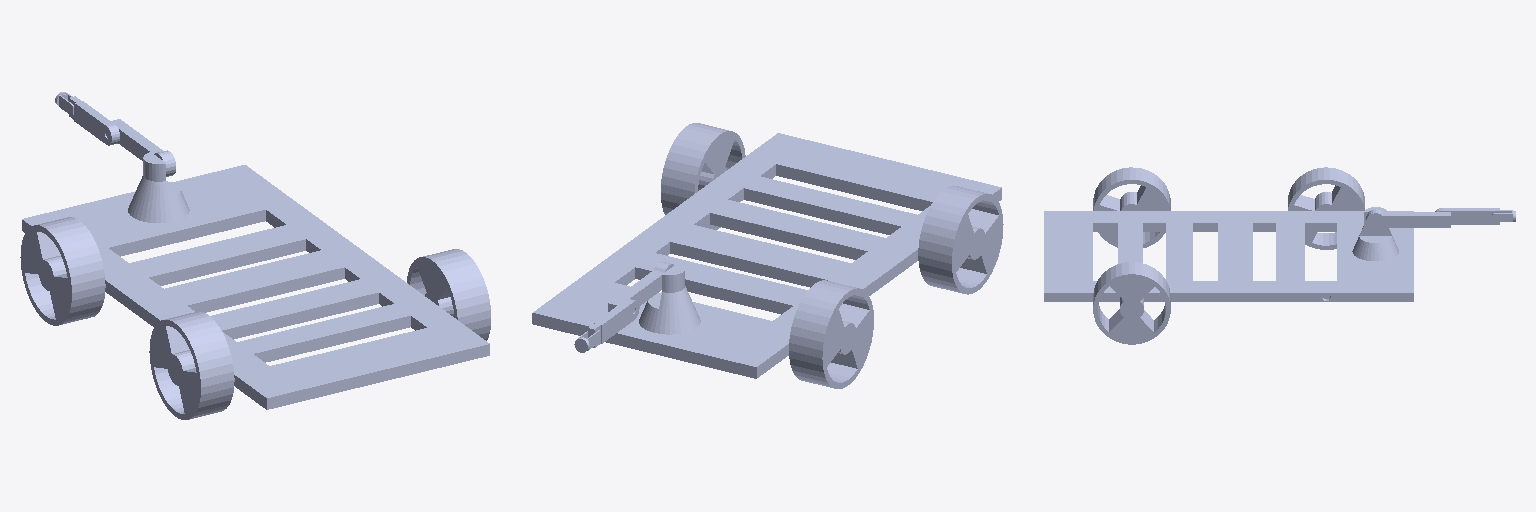
The robot description file, URDF, robot "main_assem":
<?xml version="1.0" encoding="utf-8"?>
<!-- This URDF was automatically created by SolidWorks to URDF Exporter! Originally created by [author] ([email redacted]) 
     Commit Version: 1.5.1-0-g916b5db  Build Version: 1.5.7152.31018
     For more information, please see http://wiki.ros.org/sw_urdf_exporter -->
<robot
  name="main_assem">
  <link
    name="dummy_link">
  </link>
  <joint
    name="dummy_joint"
    type="fixed">
    <parent
      link="dummy_link" />
    <child
      link="base_link" />
  </joint>
  <link
    name="base_link">
    <inertial>
      <origin
        xyz="-0.00170203638116475 0.0127346850239872 -0.0118041005648726"
        rpy="0 0 0" />
      <mass
        value="9.42503016099692" />
      <inertia
        ixx="0.832740314338072"
        ixy="-5.56408283328623E-07"
        ixz="0.000753920974796364"
        iyy="1.0663237405973"
        iyz="0.000121345959122724"
        izz="0.234614332511758" />
    </inertial>
    <visual>
      <origin
        xyz="0 0 0"
        rpy="0 0 0" />
      <geometry>
        <mesh
          filename="package://main_assem/meshes/base_link.STL" />
      </geometry>
      <material
        name="">
        <color
          rgba="0.792156862745098 0.819607843137255 0.933333333333333 1" />
      </material>
    </visual>
    <collision>
      <origin
        xyz="0 0 0"
        rpy="0 0 0" />
      <geometry>
        <mesh
          filename="package://main_assem/meshes/base_link.STL" />
      </geometry>
    </collision>
  </link>
  <link
    name="armbase">
    <inertial>
      <origin
        xyz="-0.00324897350997218 0.0353952360185757 0"
        rpy="0 0 0" />
      <mass
        value="0.506213101500391" />
      <inertia
        ixx="0.000753878291869249"
        ixy="5.72149221092461E-05"
        ixz="-6.69003782118071E-21"
        iyy="0.000614625369596842"
        iyz="2.84387244597079E-19"
        izz="0.000750783643468825" />
    </inertial>
    <visual>
      <origin
        xyz="0 0 0"
        rpy="0 0 0" />
      <geometry>
        <mesh
          filename="package://main_assem/meshes/armbase.STL" />
      </geometry>
      <material
        name="">
        <color
          rgba="0.792156862745098 0.819607843137255 0.933333333333333 1" />
      </material>
    </visual>
    <collision>
      <origin
        xyz="0 0 0"
        rpy="0 0 0" />
      <geometry>
        <mesh
          filename="package://main_assem/meshes/armbase.STL" />
      </geometry>
    </collision>
  </link>
  <joint
    name="armbase_j"
    type="revolute">
    <origin
      xyz="0 0.383 0.0254"
      rpy="1.5708 0 0" />
    <parent
      link="base_link" />
    <child
      link="armbase" />
    <axis
      xyz="0 1 0" />
    <limit
      lower="-3.14"
      upper="3.14"
      effort="1"
      velocity="0.1" />
  </joint>
  <link
    name="arm1">
    <inertial>
      <origin
        xyz="0.0879541937393116 0 -0.0124617330788163"
        rpy="0 0 0" />
      <mass
        value="0.183935653559041" />
      <inertia
        ixx="3.12142420880735E-01"
        ixy="-3.14163621815198E-21"
        ixz="-3.6809232997478E-06"
        iyy="2.000765129111322245"
        iyz="1.950052768551E-21"
        izz="2.000774879373112612" />
    </inertial>
    <visual>
      <origin
        xyz="0 0 0"
        rpy="0 0 0" />
      <geometry>
        <mesh
          filename="package://main_assem/meshes/arm1.STL" />
      </geometry>
      <material
        name="">
        <color
          rgba="0.792156862745098 0.819607843137255 0.933333333333333 1" />
      </material>
    </visual>
    <collision>
      <origin
        xyz="0 0 0"
        rpy="0 0 0" />
      <geometry>
        <mesh
          filename="package://main_assem/meshes/arm1.STL" />
      </geometry>
    </collision>
  </link>
  <joint
    name="arm1_j"
    type="revolute">
    <origin
      xyz="0 0.097 0"
      rpy="0 1.5708 3.1416" />
    <parent
      link="armbase" />
    <child
      link="arm1" />
    <axis
      xyz="0 0 1" />
    <limit
      lower="-3.14"
      upper="3.14"
      effort="1"
      velocity="0.1" />
  </joint>
  <link
    name="arm2">
    <inertial>
      <origin
        xyz="-0.00950340675731335 -1.38777878078145E-17 -0.0666337524314881"
        rpy="0 0 0" />
      <mass
        value="0.123007120370338" />
      <inertia
        ixx="3.000288970056409319"
        ixy="-1.50923505767771E-22"
        ixz="1.94072911636947E-07"
        iyy="3.000275729143825337"
        iyz="5.6623532321321E-21"
        izz="1.030231093816" />
    </inertial>
    <visual>
      <origin
        xyz="0 0 0"
        rpy="0 0 0" />
      <geometry>
        <mesh
          filename="package://main_assem/meshes/arm2.STL" />
      </geometry>
      <material
        name="">
        <color
          rgba="0.792156862745098 0.819607843137255 0.933333333333333 1" />
      </material>
    </visual>
    <collision>
      <origin
        xyz="0 0 0"
        rpy="0 0 0" />
      <geometry>
        <mesh
          filename="package://main_assem/meshes/arm2.STL" />
      </geometry>
    </collision>
  </link>
  <joint
    name="arm2_j"
    type="revolute">
    <origin
      xyz="0.17194 0 0"
      rpy="0 1.5708 -3.1416" />
    <parent
      link="arm1" />
    <child
      link="arm2" />
    <axis
      xyz="1 0 0" />
    <limit
      lower="-3.14"
      upper="3.14"
      effort="1"
      velocity="0.1" />
  </joint>
  <link
    name="arm3">
    <inertial>
      <origin
        xyz="2.77555756156289E-17 0.0100325428121109 0.0230765135930778"
        rpy="0 0 0" />
      <mass
        value="0.00876236613981444" />
      <inertia
        ixx="2.85847864738436E-02"
        ixy="3.57315758507871E-22"
        ixz="2.65331948404002E-22"
        iyy="2.73486379920807E-02"
        iyz="7.69476065540878E-08"
        izz="1.07567110867272E-02" />
    </inertial>
    <visual>
      <origin
        xyz="0 0 0"
        rpy="0 0 0" />
      <geometry>
        <mesh
          filename="package://main_assem/meshes/arm3.STL" />
      </geometry>
      <material
        name="">
        <color
          rgba="0.792156862745098 0.819607843137255 0.933333333333333 1" />
      </material>
    </visual>
    <collision>
      <origin
        xyz="0 0 0"
        rpy="0 0 0" />
      <geometry>
        <mesh
          filename="package://main_assem/meshes/arm3.STL" />
      </geometry>
    </collision>
  </link>
  <joint
    name="arm3_j"
    type="revolute">
    <origin
      xyz="0 0 -0.1397"
      rpy="3.1416 0 -1.5708" />
    <parent
      link="arm2" />
    <child
      link="arm3" />
    <axis
      xyz="0 1 0" />
    <limit
      lower="-3.14"
      upper="3.14"
      effort="1"
      velocity="0.1" />
  </joint>
  <link
    name="end_eff">
    <inertial>
      <origin
        xyz="-5.20417042793042E-18 -0.00382504739336498 0"
        rpy="0 0 0" />
      <mass
        value="0.00543129612695023" />
      <inertia
        ixx="3.4904804132836E-07"
        ixy="3.16484926145413E-22"
        ixz="1.25133954774564E-38"
        iyy="6.45260935473564E-07"
        iyz="1.22213314069655E-23"
        izz="3.4904804132836E-07" />
    </inertial>
    <visual>
      <origin
        xyz="0 0 0"
        rpy="0 0 0" />
      <geometry>
        <mesh
          filename="package://main_assem/meshes/end_eff.STL" />
      </geometry>
      <material
        name="">
        <color
          rgba="0.792156862745098 0.819607843137255 0.933333333333333 1" />
      </material>
    </visual>
    <collision>
      <origin
        xyz="0 0 0"
        rpy="0 0 0" />
      <geometry>
        <mesh
          filename="package://main_assem/meshes/end_eff.STL" />
      </geometry>
    </collision>
  </link>
  <joint
    name="end_eff_j"
    type="revolute">
    <origin
      xyz="0 0.009652 0.045692"
      rpy="-1.5708 0 -1.5708" />
    <parent
      link="arm3" />
    <child
      link="end_eff" />
    <axis
      xyz="0 1 0" />
    <limit
      lower="-3.14"
      upper="3.14"
      effort="1"
      velocity="0.1" />
  </joint>
  <link
    name="front_l">
    <inertial>
      <origin
        xyz="0.0630909519637447 0 -1.38777878078145E-17"
        rpy="0 0 0" />
      <mass
        value="1.59838145273687" />
      <inertia
        ixx="0.00880922264288547"
        ixy="1.40090991093141E-19"
        ixz="-6.23156060309379E-19"
        iyy="0.0040430414902767"
        iyz="3.16915422768023E-05"
        izz="0.00636782025562654" />
    </inertial>
    <visual>
      <origin
        xyz="0 0 0"
        rpy="0 0 0" />
      <geometry>
        <mesh
          filename="package://main_assem/meshes/front_l.STL" />
      </geometry>
      <material
        name="">
        <color
          rgba="0.792156862745098 0.819607843137255 0.933333333333333 1" />
      </material>
    </visual>
    <collision>
      <origin
        xyz="0 0 0"
        rpy="0 0 0" />
      <geometry>
        <mesh
          filename="package://main_assem/meshes/front_l.STL" />
      </geometry>
    </collision>
  </link>
  <joint
    name="front_l_j"
    type="revolute">
    <origin
      xyz="-0.2286 0.254 0.0127"
      rpy="-0.3918 0 -3.1416" />
    <parent
      link="base_link" />
    <child
      link="front_l" />
    <axis
      xyz="1 0 0" />
    <limit
      lower="-3.14"
      upper="3.14"
      effort="1"
      velocity="10" />
  </joint>
  <link
    name="front_r">
    <inertial>
      <origin
        xyz="0.0630909519637447 0 -5.55111512312578E-17"
        rpy="0 0 0" />
      <mass
        value="1.59838145273687" />
      <inertia
        ixx="0.00880922264288546"
        ixy="6.81917958332264E-20"
        ixz="4.04733976487528E-19"
        iyy="0.0040430414902767"
        iyz="3.16915422768036E-05"
        izz="0.00636782025562653" />
    </inertial>
    <visual>
      <origin
        xyz="0 0 0"
        rpy="0 0 0" />
      <geometry>
        <mesh
          filename="package://main_assem/meshes/front_r.STL" />
      </geometry>
      <material
        name="">
        <color
          rgba="0.792156862745098 0.819607843137255 0.933333333333333 1" />
      </material>
    </visual>
    <collision>
      <origin
        xyz="0 0 0"
        rpy="0 0 0" />
      <geometry>
        <mesh
          filename="package://main_assem/meshes/front_r.STL" />
      </geometry>
    </collision>
  </link>
  <joint
    name="front_r_j"
    type="revolute">
    <origin
      xyz="0.2286 0.254 0.0127"
      rpy="1.5708 0 0" />
    <parent
      link="base_link" />
    <child
      link="front_r" />
    <axis
      xyz="1 0 0" />
    <limit
      lower="-3.14"
      upper="3.14"
      effort="1"
      velocity="10" />
  </joint>
  <link
    name="back_l">
    <inertial>
      <origin
        xyz="0.0630909519637446 2.77555756156289E-17 -1.38777878078145E-17"
        rpy="0 0 0" />
      <mass
        value="1.59838145273687" />
      <inertia
        ixx="0.00880922264288547"
        ixy="9.73907783546181E-20"
        ixz="-1.99184542323934E-19"
        iyy="0.0040430414902767"
        iyz="3.16915422768004E-05"
        izz="0.00636782025562654" />
    </inertial>
    <visual>
      <origin
        xyz="0 0 0"
        rpy="0 0 0" />
      <geometry>
        <mesh
          filename="package://main_assem/meshes/back_l.STL" />
      </geometry>
      <material
        name="">
        <color
          rgba="0.792156862745098 0.819607843137255 0.933333333333333 1" />
      </material>
    </visual>
    <collision>
      <origin
        xyz="0 0 0"
        rpy="0 0 0" />
      <geometry>
        <mesh
          filename="package://main_assem/meshes/back_l.STL" />
      </geometry>
    </collision>
  </link>
  <joint
    name="back_l_j"
    type="revolute">
    <origin
      xyz="-0.2286 -0.254 0.0127"
      rpy="-0.3918 0 -3.1416" />
    <parent
      link="base_link" />
    <child
      link="back_l" />
    <axis
      xyz="1 0 0" />
    <limit
      lower="-3.14"
      upper="3.14"
      effort="1"
      velocity="10" />
  </joint>
  <link
    name="back_r">
    <inertial>
      <origin
        xyz="0.0630909519637446 3.46944695195361E-18 5.55111512312578E-17"
        rpy="0 0 0" />
      <mass
        value="1.59838145273687" />
      <inertia
        ixx="0.00880922264288546"
        ixy="2.0319209393765E-19"
        ixz="3.64561037791785E-19"
        iyy="0.0040430414902767"
        iyz="3.16915422768035E-05"
        izz="0.00636782025562653" />
    </inertial>
    <visual>
      <origin
        xyz="0 0 0"
        rpy="0 0 0" />
      <geometry>
        <mesh
          filename="package://main_assem/meshes/back_r.STL" />
      </geometry>
      <material
        name="">
        <color
          rgba="0.792156862745098 0.819607843137255 0.933333333333333 1" />
      </material>
    </visual>
    <collision>
      <origin
        xyz="0 0 0"
        rpy="0 0 0" />
      <geometry>
        <mesh
          filename="package://main_assem/meshes/back_r.STL" />
      </geometry>
    </collision>
  </link>
  <joint
    name="back_r_j"
    type="revolute">
    <origin
      xyz="0.2286 -0.254 0.0127"
      rpy="1.5708 0 0" />
    <parent
      link="base_link" />
    <child
      link="back_r" />
    <axis
      xyz="1 0 0" />
    <limit
      lower="-3.14"
      upper="3.14"
      effort="1"
      velocity="10" />
  </joint>

  
</robot>

--- Render facts (derived) ---
The picture shows the robot from 3 angles, left to right: view 1: azimuth 30°, elevation 25°; view 2: azimuth 150°, elevation 25°; view 3: azimuth 270°, elevation 25°; orthographic projection.
Model main_assem with 11 links and 10 joints (9 revolute, 1 fixed), rooted at dummy_link, posed every joint at zero.
Links seen in each view (by area): view 1: base_link, front_l, back_l, back_r, armbase, arm2, arm1; view 2: base_link, front_l, back_l, back_r, armbase, arm2, arm1; view 3: base_link, back_r, front_l, back_l, armbase, arm1, arm2.
Link boxes in pixels (x1=…): base_link: x1=22, y1=165, x2=489, y2=409; front_l: x1=20, y1=217, x2=105, y2=325; back_l: x1=149, y1=311, x2=234, y2=419; back_r: x1=407, y1=249, x2=490, y2=340; armbase: x1=128, y1=152, x2=189, y2=222; arm2: x1=69, y1=96, x2=119, y2=145; arm1: x1=106, y1=119, x2=175, y2=176; base_link: x1=532, y1=133, x2=1001, y2=378; front_l: x1=789, y1=280, x2=873, y2=388; back_l: x1=918, y1=185, x2=1003, y2=294; back_r: x1=661, y1=123, x2=745, y2=229; armbase: x1=639, y1=263, x2=700, y2=334; arm2: x1=588, y1=299, x2=639, y2=347; arm1: x1=608, y1=261, x2=673, y2=312; base_link: x1=1044, y1=211, x2=1413, y2=301; back_r: x1=1093, y1=262, x2=1170, y2=344; front_l: x1=1288, y1=167, x2=1364, y2=249; back_l: x1=1093, y1=167, x2=1170, y2=247; armbase: x1=1352, y1=207, x2=1398, y2=260; arm1: x1=1366, y1=209, x2=1450, y2=230; arm2: x1=1435, y1=208, x2=1499, y2=224.
Size in the robot's own frame: 0.6604 by 1.23 by 0.2365 metres.
9 mesh visuals loaded from 10 distinct referenced files (9 binary STL); not drawn: 1 (reference not matched to a file when rendering).